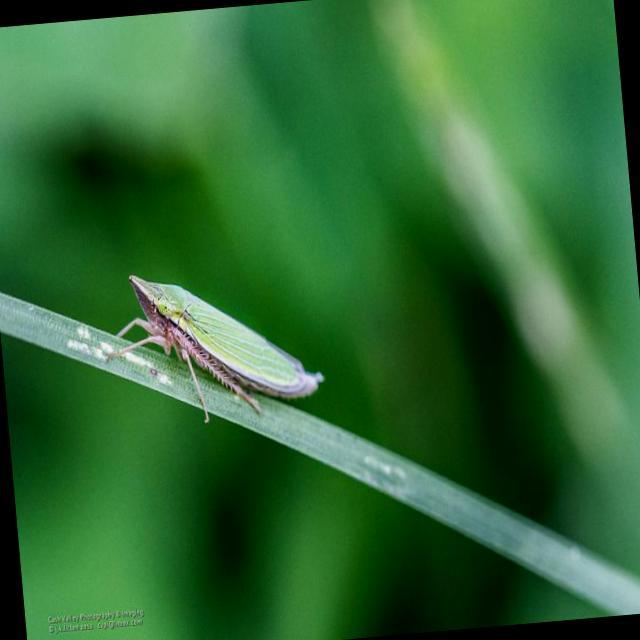green leaf hopper: (111, 275, 322, 422)
